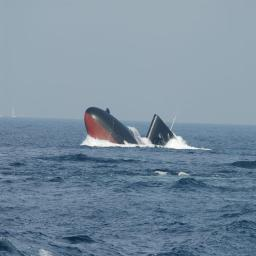submarine: (83, 105, 185, 151)
